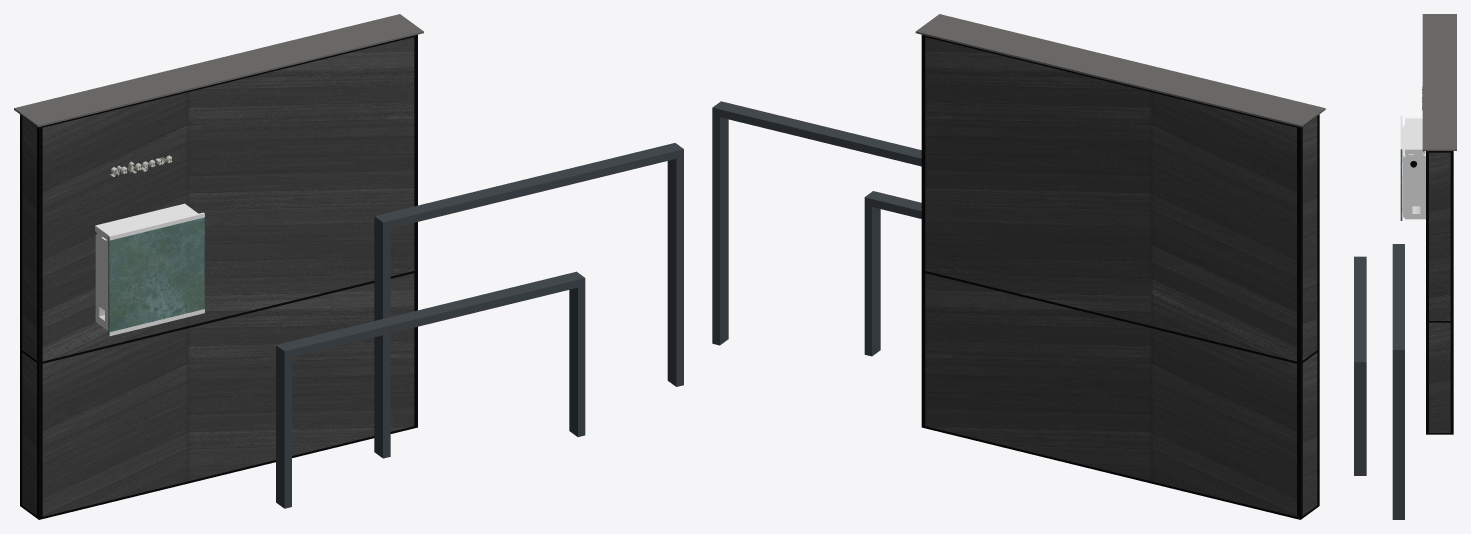
The model's file is abc3-m_herringboneblack.fbx.
3 views of the same model, side by side, from view 1: azimuth 30°, elevation 25°; view 2: azimuth 150°, elevation 25°; view 3: azimuth 270°, elevation 25° (orthographic). The views are drawn at different scales.
Parts seen in each view (by area): view 1: abc3-m_plasterblack.001; view 2: abc3-m_plasterblack.001; view 3: abc3-m_plasterblack.001.
Part boxes in pixels (x1,y1,x2,y2): abc3-m_plasterblack.001: (14,14,683,519); abc3-m_plasterblack.001: (712,14,1325,519); abc3-m_plasterblack.001: (1354,14,1456,519).
Bounding box in the file's own units: 249 × 151 × 49.35.
11 materials, 5 textured.
